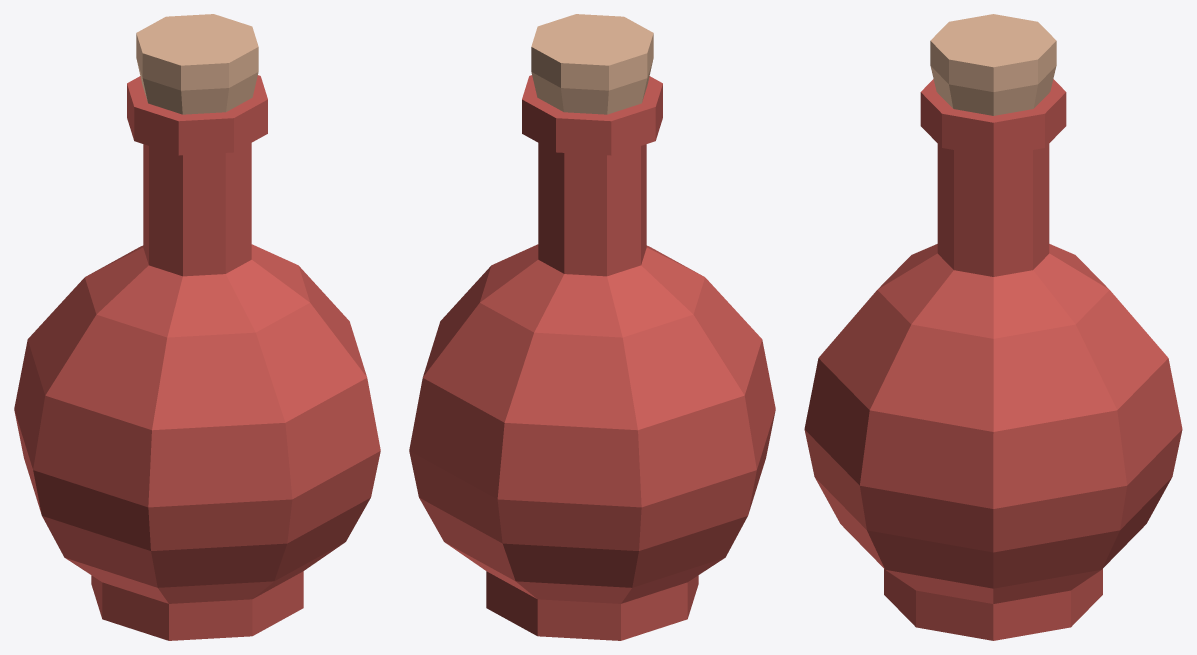
Rendered from Potion A.fbx.
3 renders of one model, left to right at view 1: azimuth 30°, elevation 25°; view 2: azimuth 150°, elevation 25°; view 3: azimuth 270°, elevation 25°, orthographic.
Visible parts, largest first — view 1: Potion A; view 2: Potion A; view 3: Potion A.
Boxes of the visible parts, box(x1,y1,x2,y2) form: Potion A: box(14, 14, 380, 640); Potion A: box(409, 14, 775, 640); Potion A: box(804, 14, 1182, 640).
Bounding box in the file's own units: 20.28 × 32.79 × 20.28.
